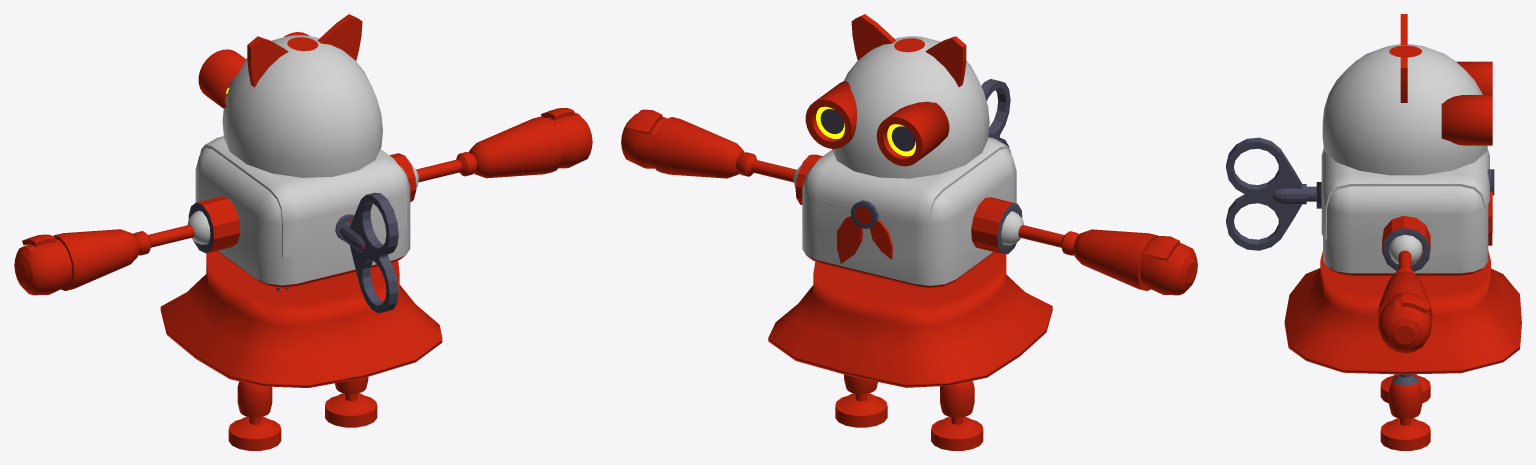
File: gato-bot.fbx
The picture shows the model from 3 angles, left to right: view 1: azimuth 30°, elevation 25°; view 2: azimuth 150°, elevation 25°; view 3: azimuth 270°, elevation 25°; orthographic projection. The views are drawn at different scales.
Visible parts, largest first — view 1: cuerpo, cabeza, brazos001, brazos, palanca, piernas001, piernas; view 2: cuerpo, cabeza, brazos001, brazos, piernas001, piernas, palanca; view 3: cuerpo, cabeza, palanca, brazos, piernas, piernas001.
Boxes of the visible parts, x1=… form: cuerpo: x1=160, y1=136, x2=442, y2=387; cabeza: x1=198, y1=14, x2=382, y2=177; brazos001: x1=14, y1=210, x2=210, y2=295; brazos: x1=411, y1=108, x2=592, y2=187; palanca: x1=340, y1=192, x2=398, y2=313; piernas001: x1=228, y1=381, x2=281, y2=450; piernas: x1=325, y1=377, x2=377, y2=427; cuerpo: x1=768, y1=137, x2=1052, y2=387; cabeza: x1=805, y1=14, x2=989, y2=178; brazos001: x1=1001, y1=211, x2=1197, y2=295; brazos: x1=621, y1=109, x2=801, y2=187; piernas001: x1=931, y1=381, x2=983, y2=450; piernas: x1=835, y1=374, x2=887, y2=427; palanca: x1=981, y1=79, x2=1010, y2=147; cuerpo: x1=1284, y1=148, x2=1521, y2=374; cabeza: x1=1322, y1=14, x2=1492, y2=175; palanca: x1=1226, y1=137, x2=1316, y2=250; brazos: x1=1377, y1=234, x2=1432, y2=353; piernas: x1=1380, y1=374, x2=1430, y2=450; piernas001: x1=1380, y1=374, x2=1430, y2=403.
Size of the model in its own units: 200 by 136 by 95.26.
